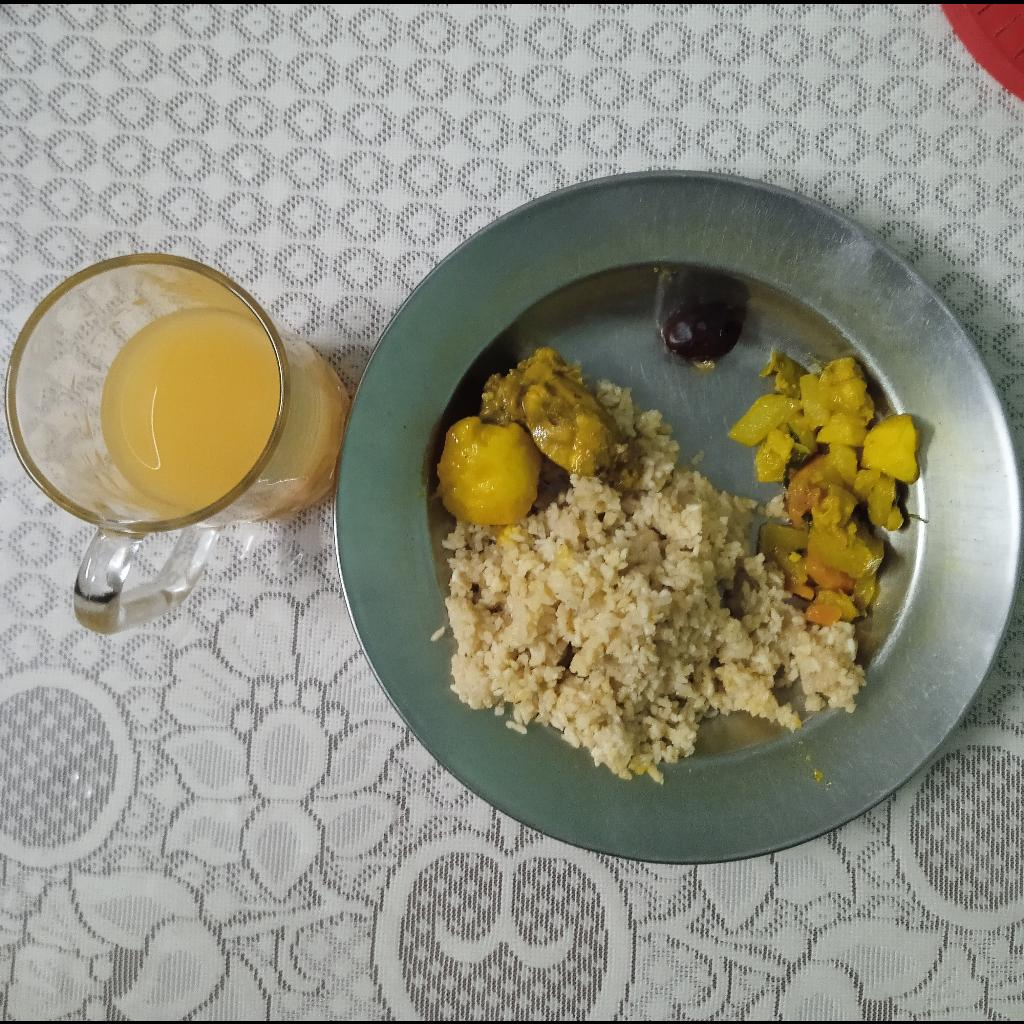biriyani: (445, 383, 868, 776)
chicken: (482, 347, 618, 475)
dates: (656, 267, 750, 366)
juice: (100, 308, 280, 514)
potato: (436, 416, 539, 525)
vegetable: (726, 347, 924, 629)
